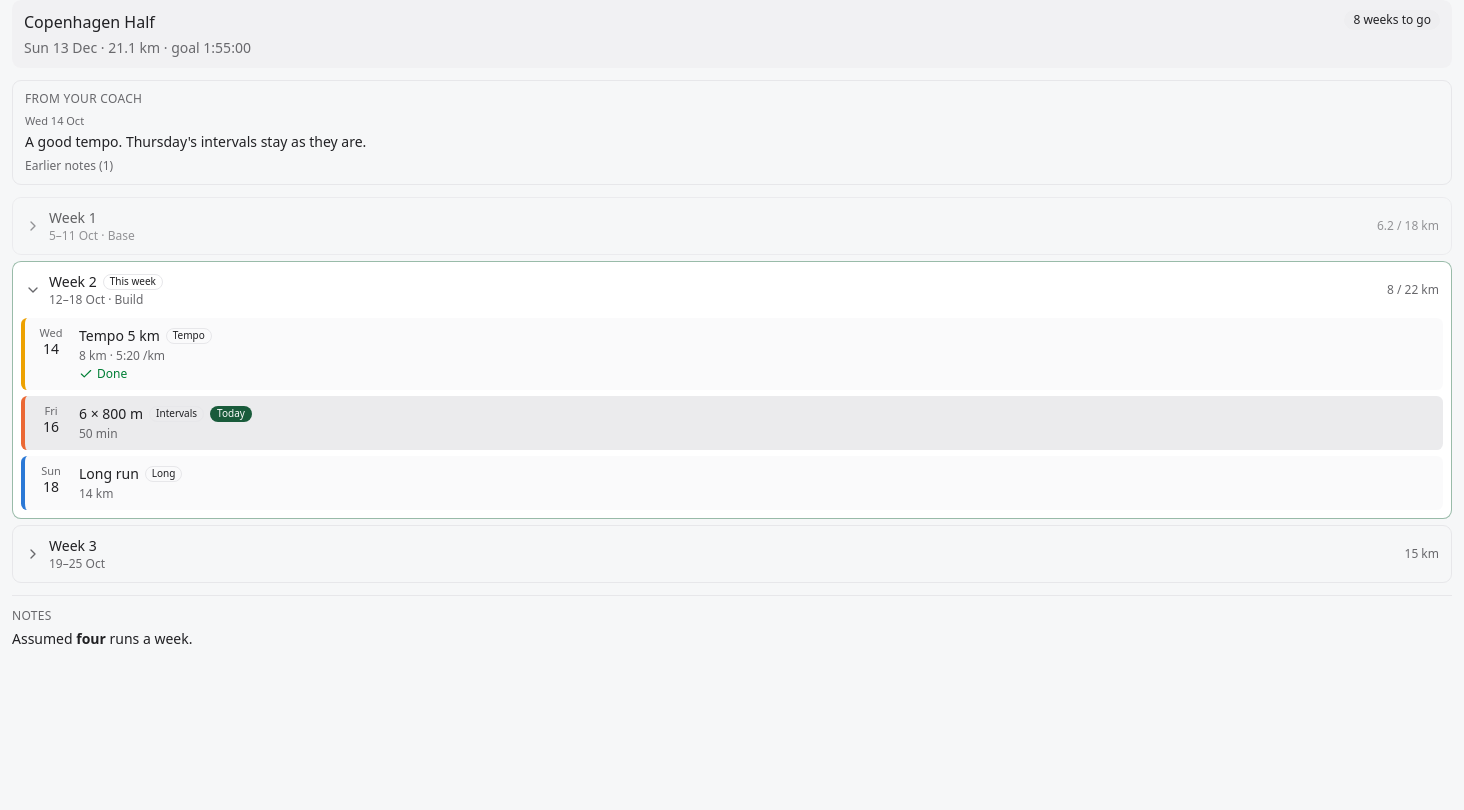
Test case: TrainingPlanView › shows what was run and what was missed in a past week
Step 1. Click the button "Week 1 5–11 Oct · Base 6.2 / 18 km" → (69, 217), box left=13, top=198, right=1451, bottom=254
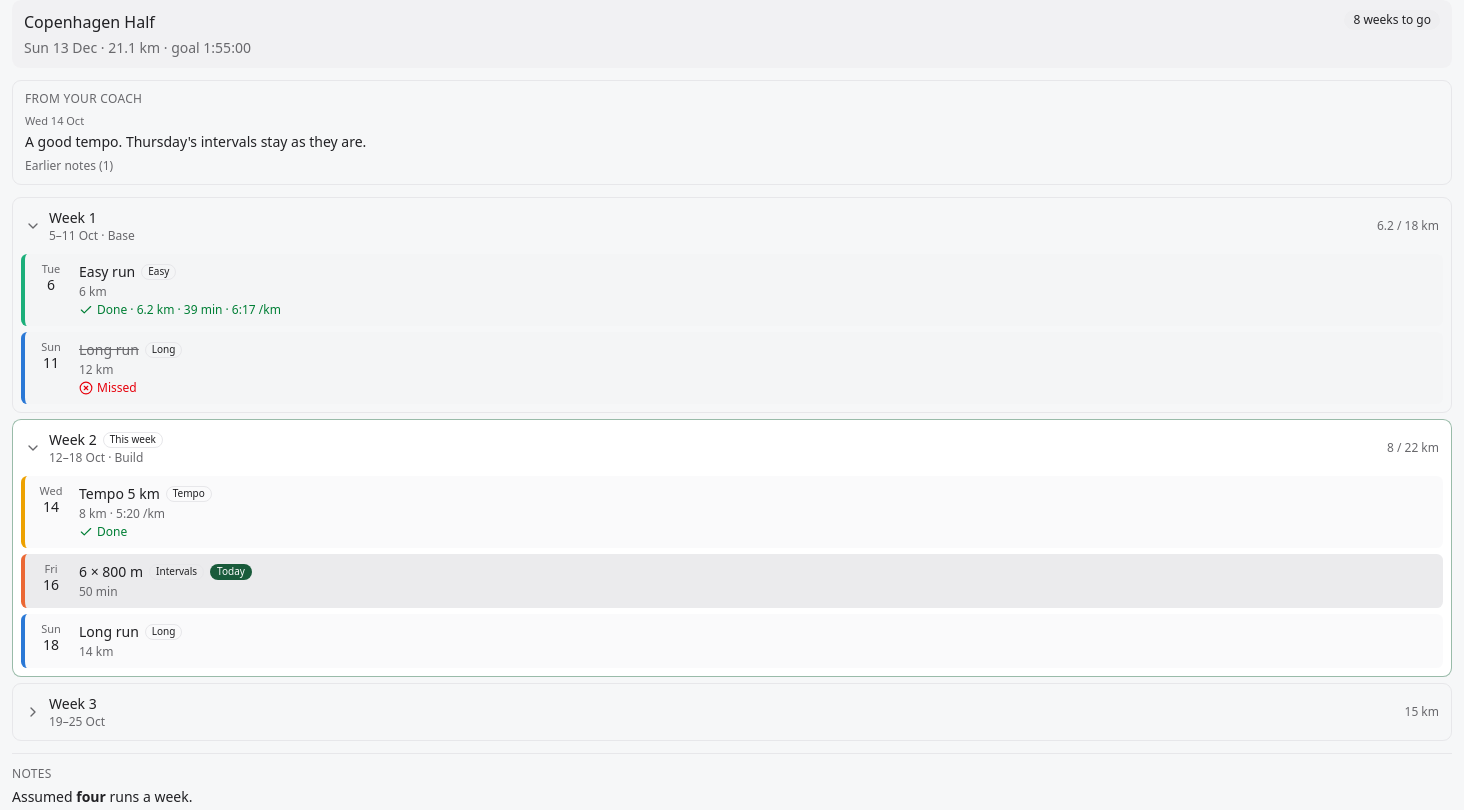
Expected: the text "Done · 6.2 km · 39 min · 6:17 /km" is shown, left=79, top=300, right=281, bottom=318
Expected: the text "Missed" is shown, left=79, top=378, right=137, bottom=396
